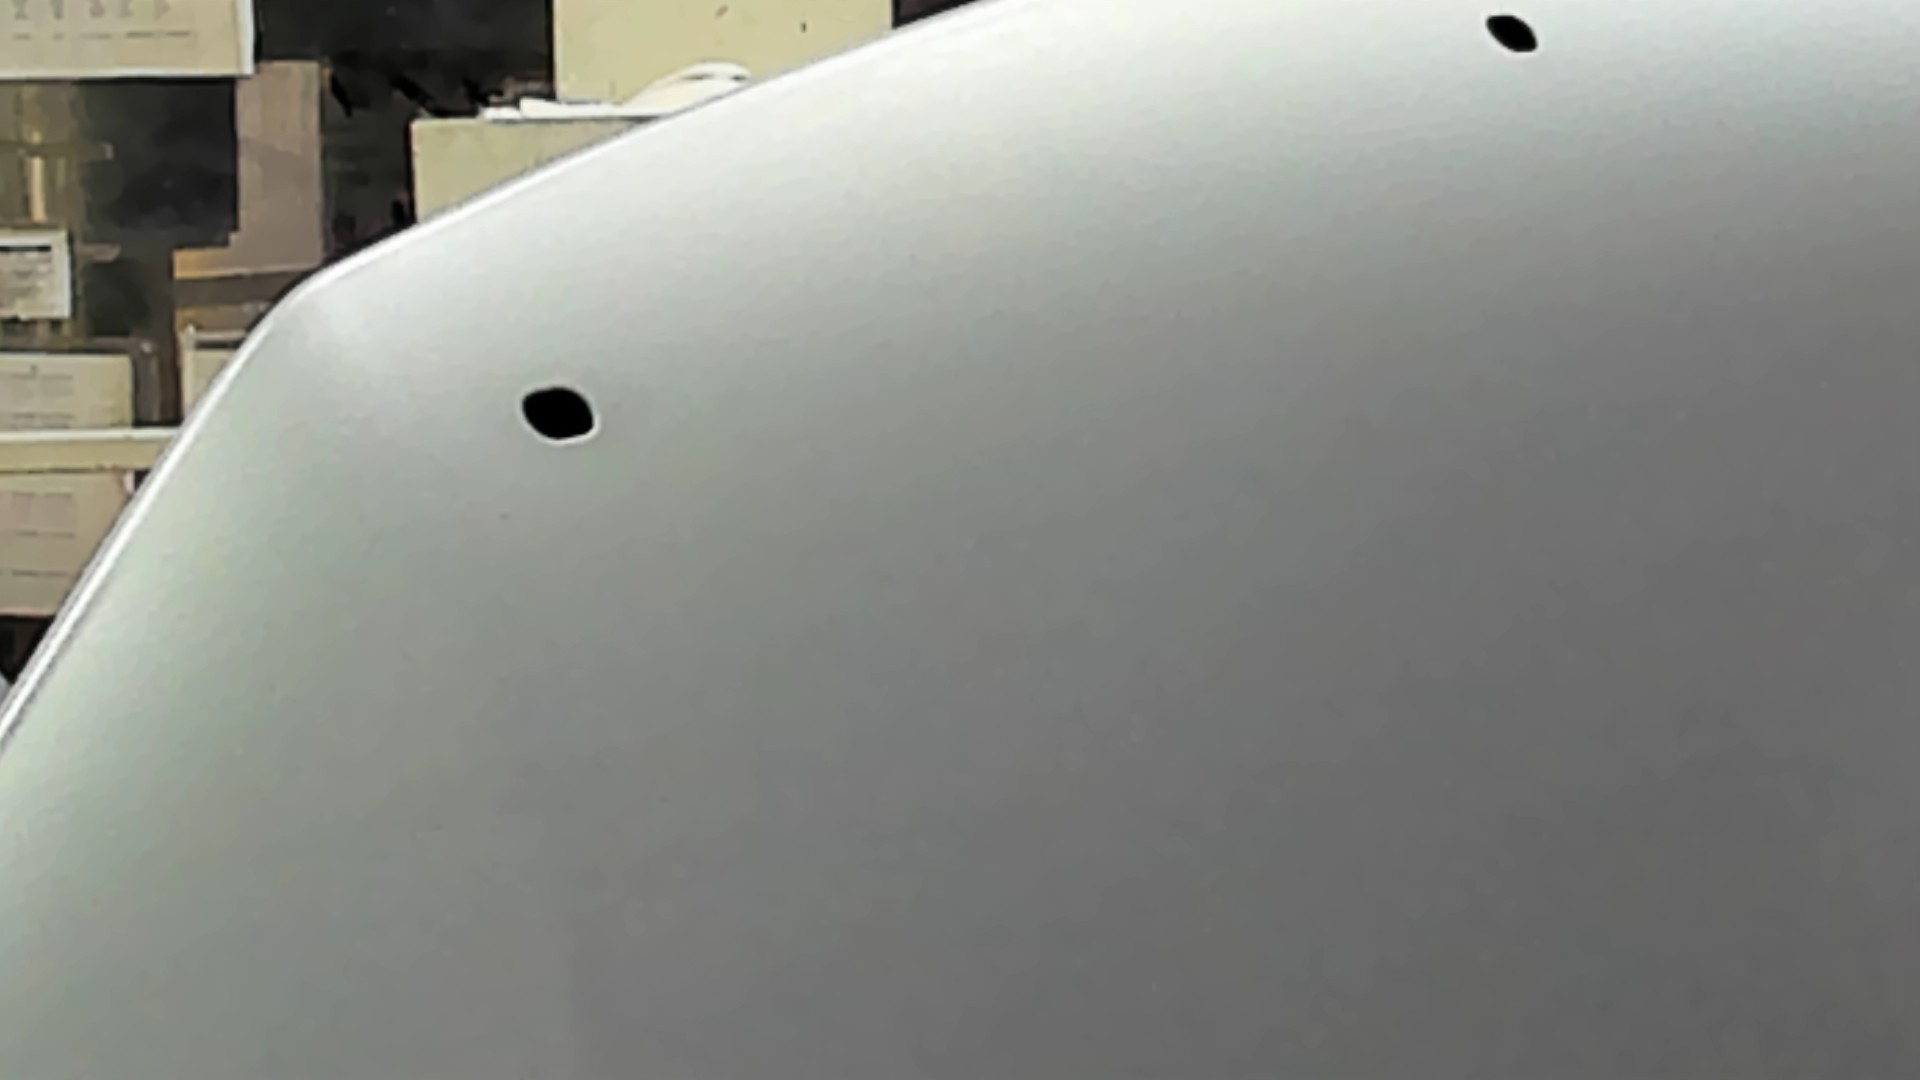amorfo: (513, 378, 603, 446), (1480, 5, 1547, 61)
